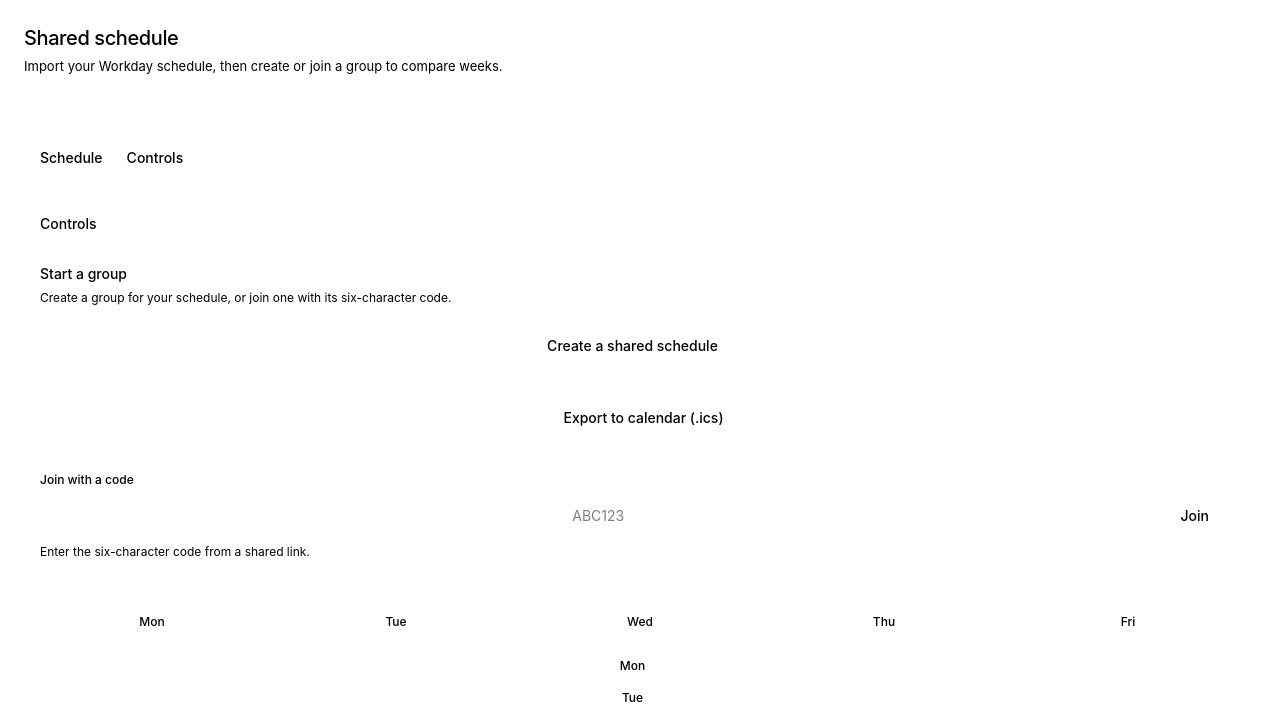
ScheduleApp invitation consent › requires consent after manually entering a group code
Type "DDDDDD" into the field labelled "Join with a code".
click(598, 516); type("DDDDDD")  # box 40,494 -> 1156,538
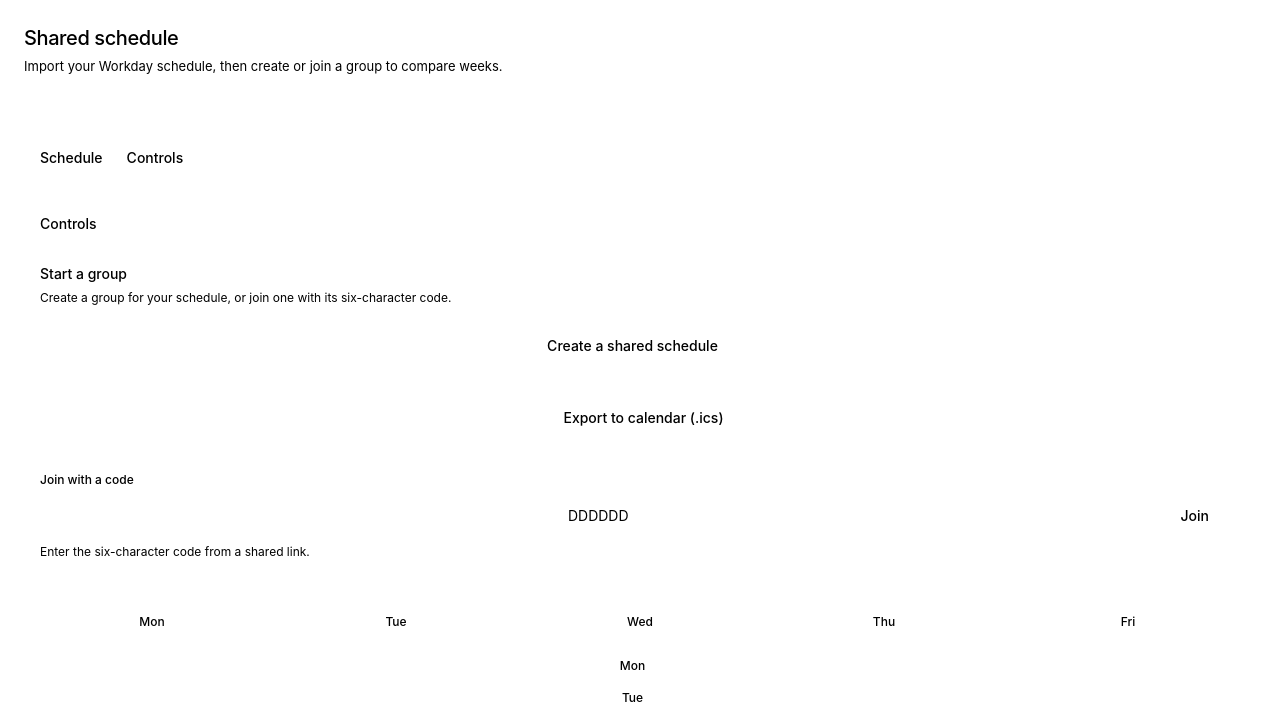
Click the button "Join".
click(1195, 516)  # box 1164,494 -> 1225,538
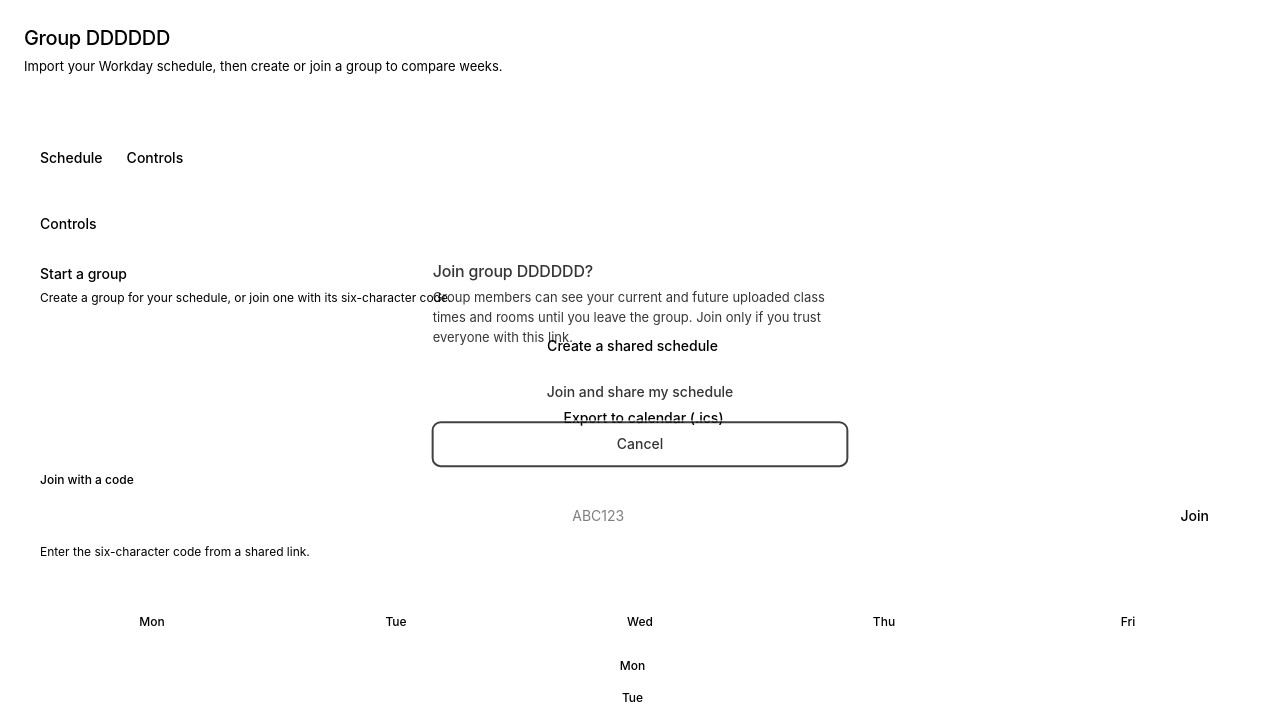
Click the button "Join and share my schedule".
click(640, 390)  # box 432,368 -> 848,412
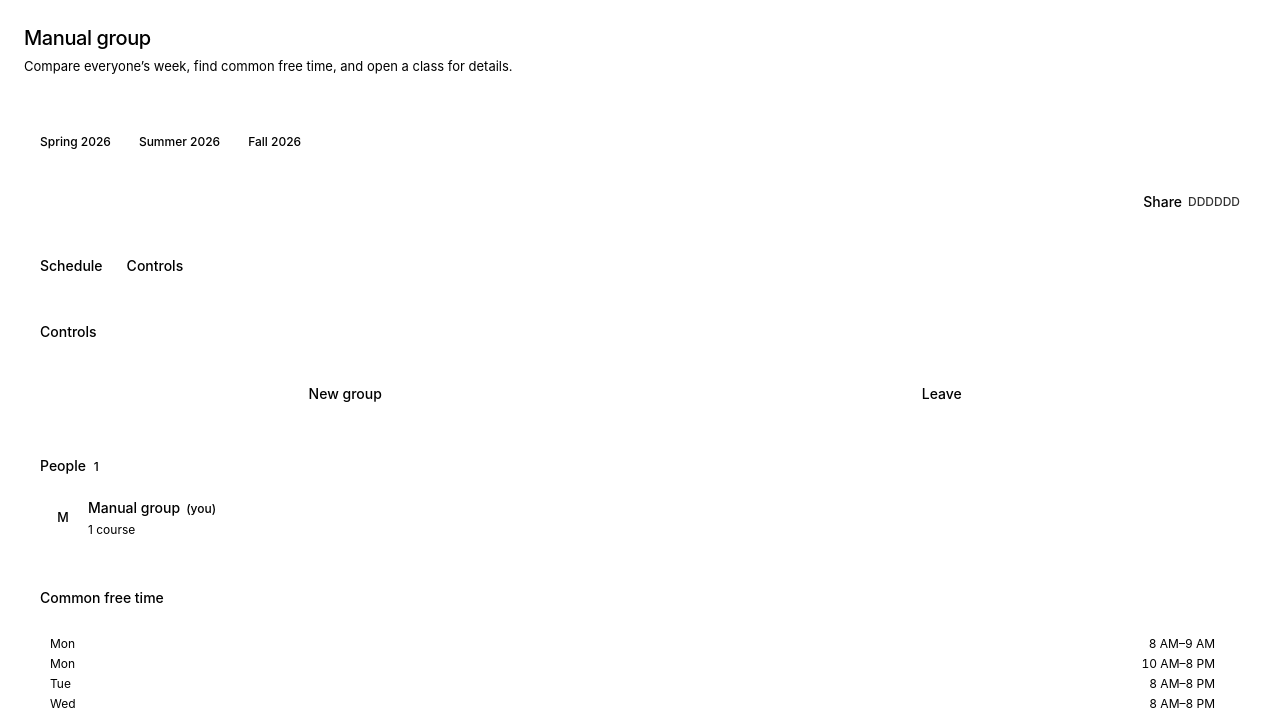
Expected: the heading "Manual group" is shown, 24,26 -> 151,50
